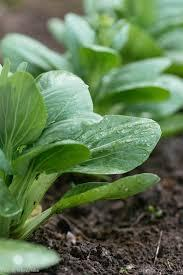Healthy-Pechay: (82, 0, 183, 113), (24, 68, 103, 172), (58, 169, 160, 213), (98, 109, 162, 172), (0, 157, 44, 240), (0, 237, 60, 275), (58, 19, 94, 63)
